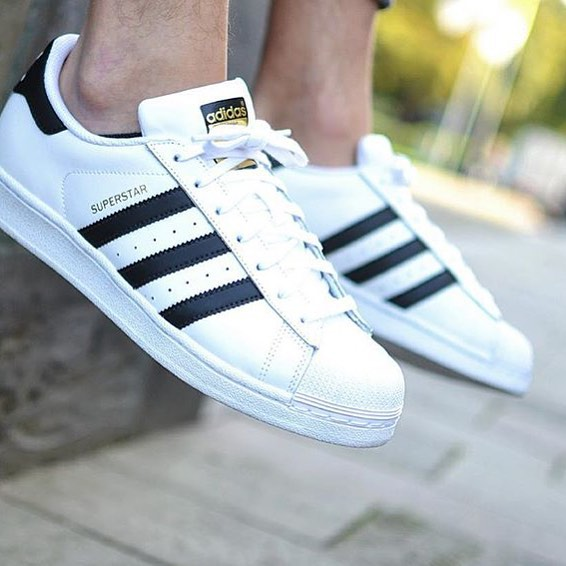sneaker: (1, 24, 430, 475), (231, 75, 546, 419)
